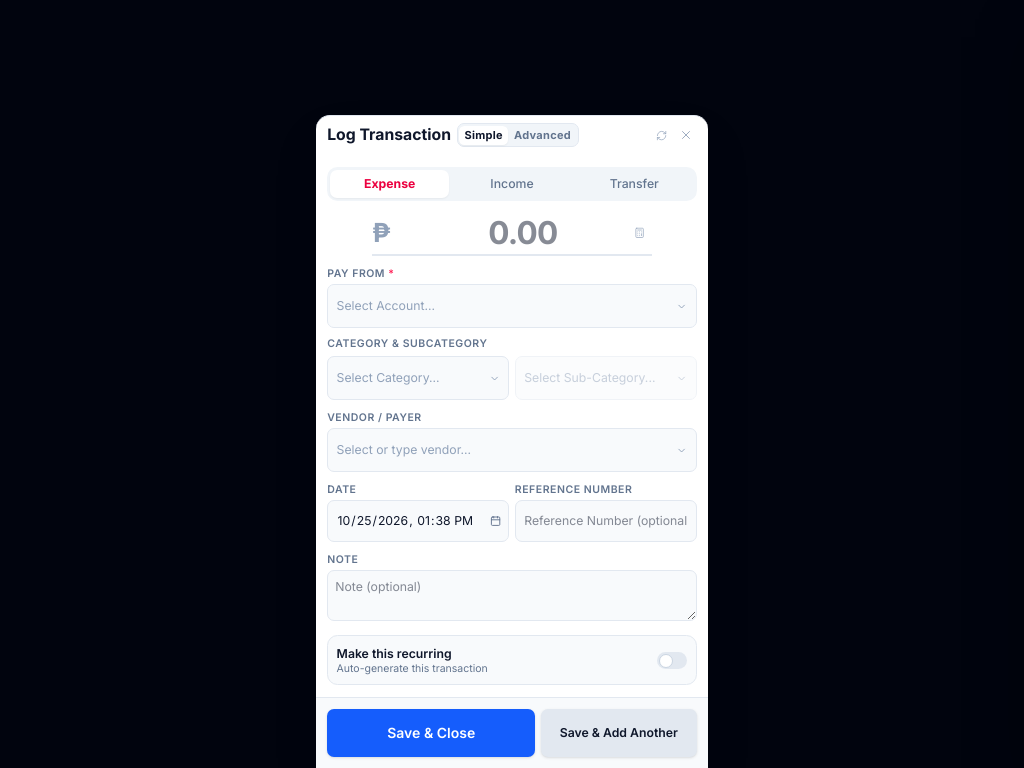
AddTransactionModal › Vendor Handling › switches between Simple and Advanced (Journal) mode on click
expect the field with placeholder "0.00" is shown: met, box [394,214,652,252]
expect the text "Journal Lines" is not shown: met
Switch to Advanced
Click the button "Advanced" at (543, 135), box [508,126,577,145]
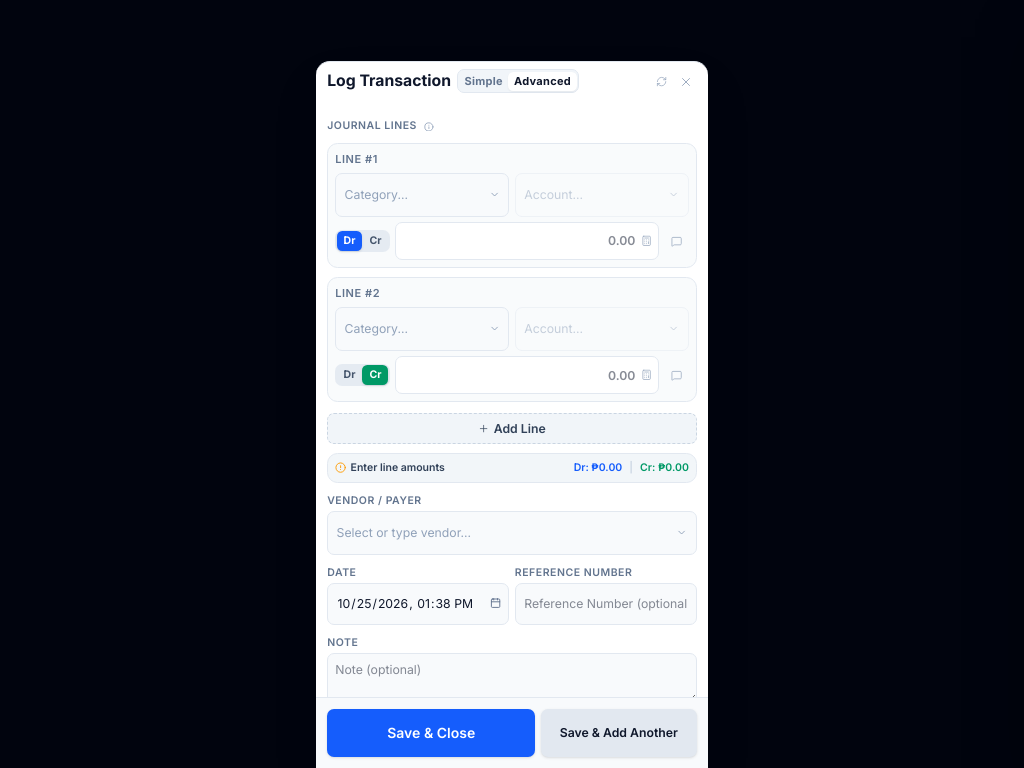
expect the text "Journal Lines" is shown: met, box [327,119,417,133]
expect the button "Add Line" is shown: met, box [327,414,697,444]
Switch back to Simple
Click the button "Simple" at (484, 82), box [459,72,508,91]
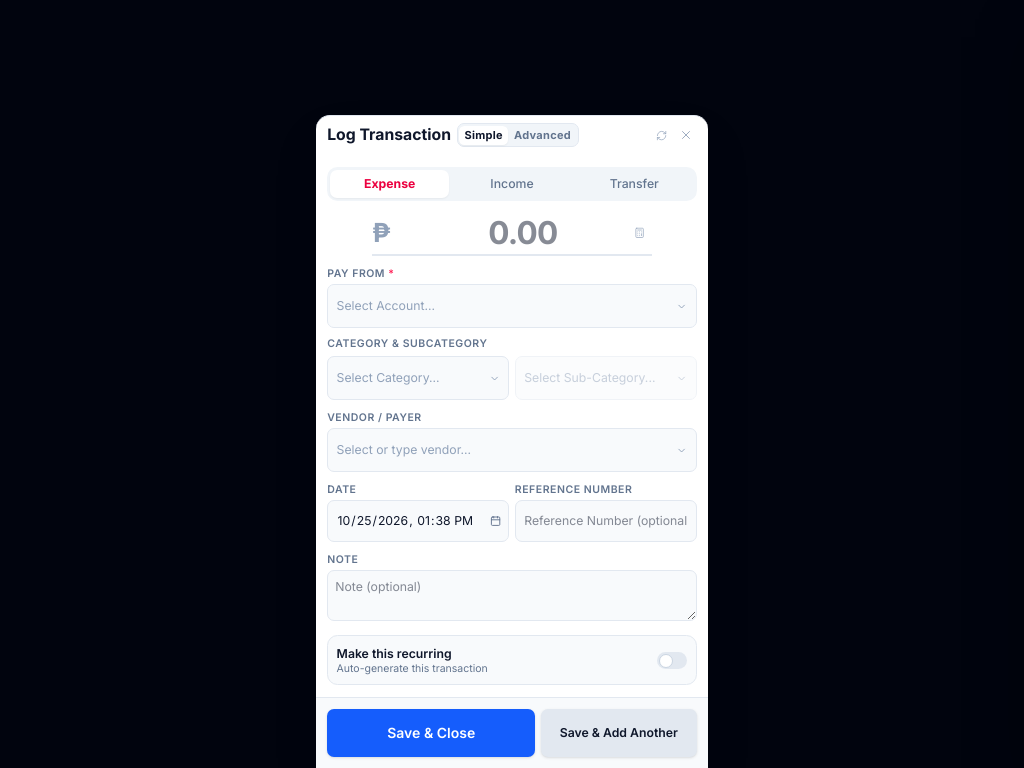
expect the field with placeholder "0.00" is shown: met, box [394,214,652,252]
expect the text "Journal Lines" is gone: met
